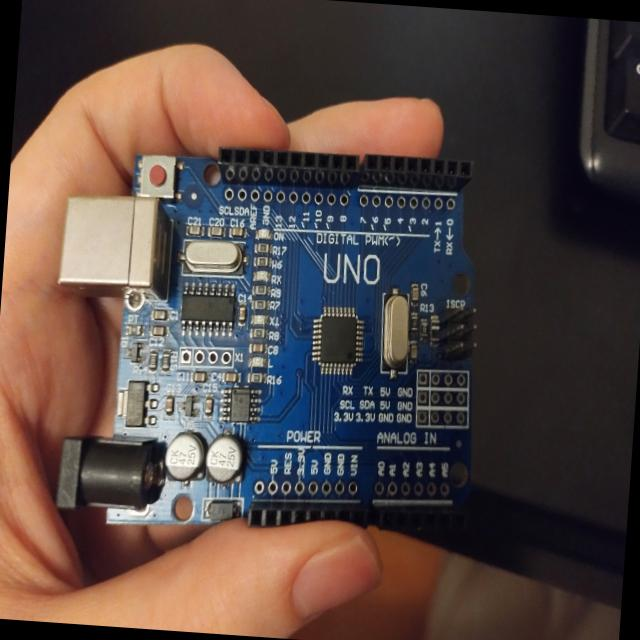arduino: (35, 121, 508, 554)
